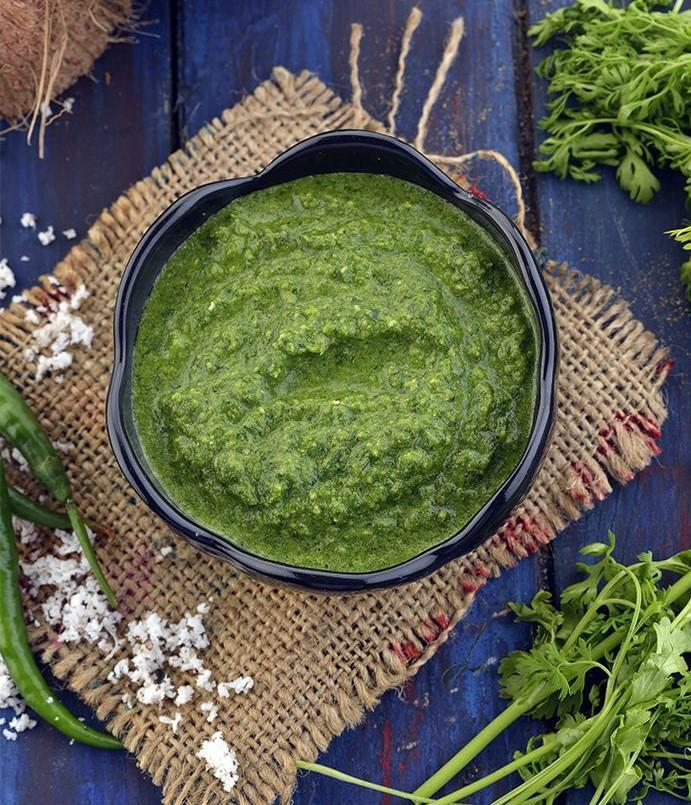GreenChutney: (129, 167, 537, 570)
